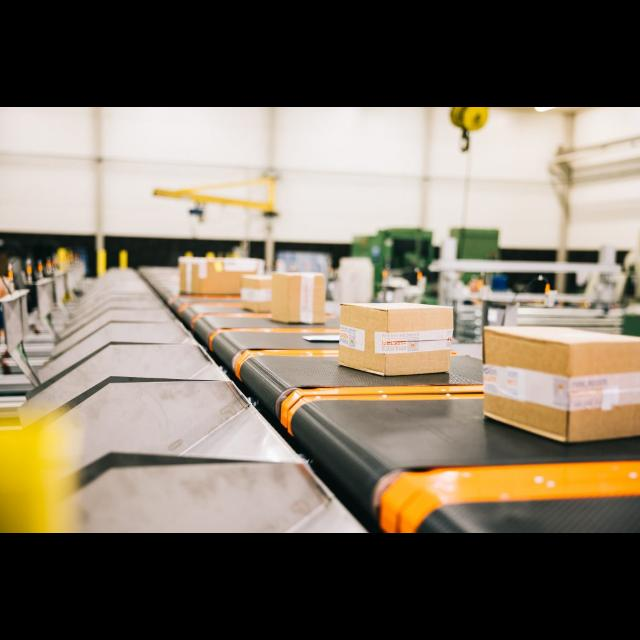box: (480, 325, 640, 445), (338, 303, 452, 377), (180, 256, 260, 294), (272, 274, 326, 324), (240, 273, 276, 315)
mailer: (305, 334, 339, 344)
